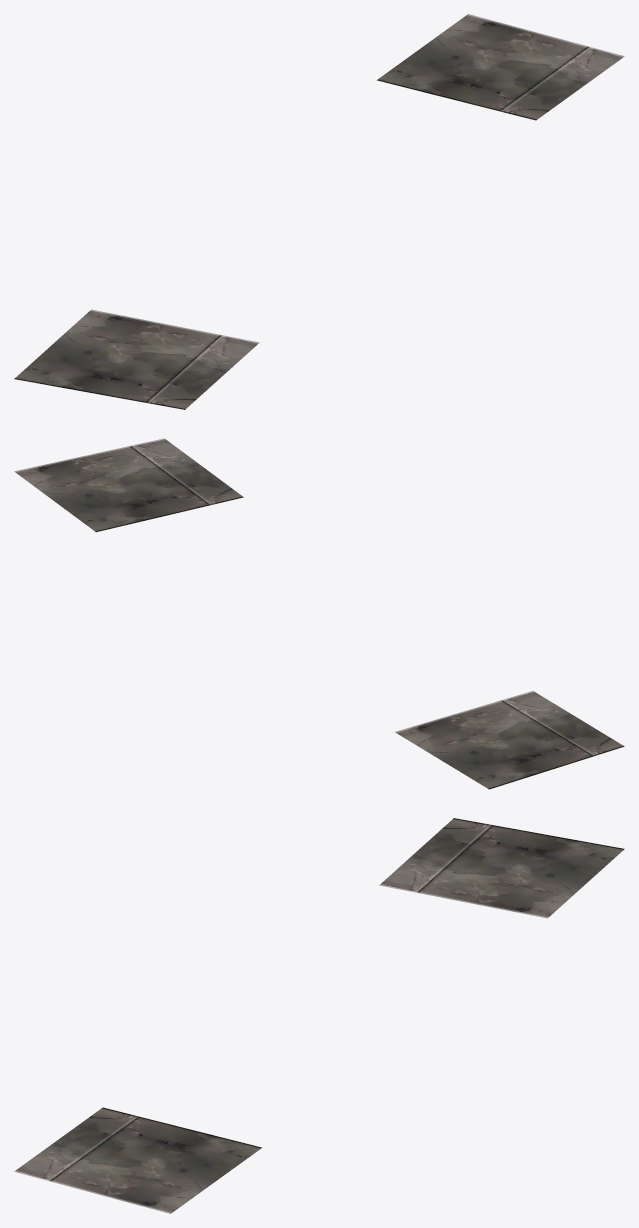
Rendered from CH09_SMAUG_PLAYSURFACE_LAIR145.fbx.
3 renders of one model, top to bottom at view 1: azimuth 90°, elevation 25°; view 2: azimuth 150°, elevation 25°; view 3: azimuth 270°, elevation 25°, orthographic. The views are drawn at different scales.
Parts seen in each view (by area): view 1: CH09_SMAUG_PLAYSURFACE_LAIR145; view 2: CH09_SMAUG_PLAYSURFACE_LAIR145; view 3: CH09_SMAUG_PLAYSURFACE_LAIR145.
Boxes of the visible parts, bbox=[...] form: CH09_SMAUG_PLAYSURFACE_LAIR145: bbox=[14, 14, 624, 409]; CH09_SMAUG_PLAYSURFACE_LAIR145: bbox=[14, 438, 624, 789]; CH09_SMAUG_PLAYSURFACE_LAIR145: bbox=[14, 818, 624, 1213].
Bounding box in the file's own units: 55506 × 0.00967 × 36194.
Materials: 1 (1 with a texture image).
